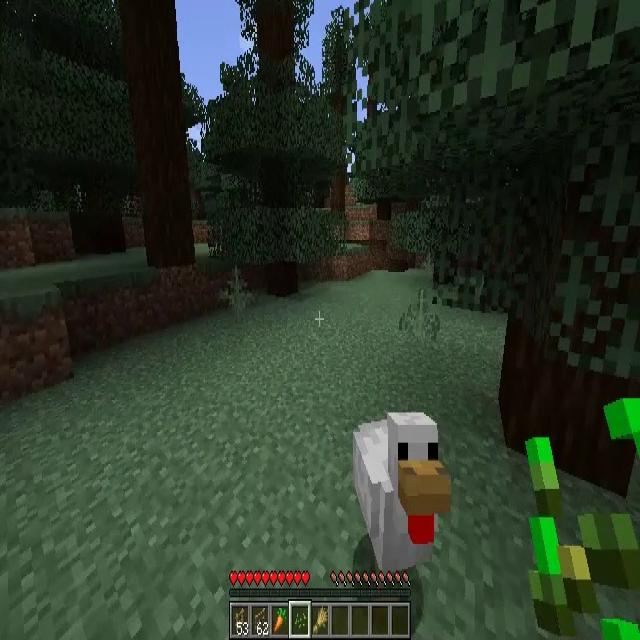duck: (354, 413, 448, 572)
